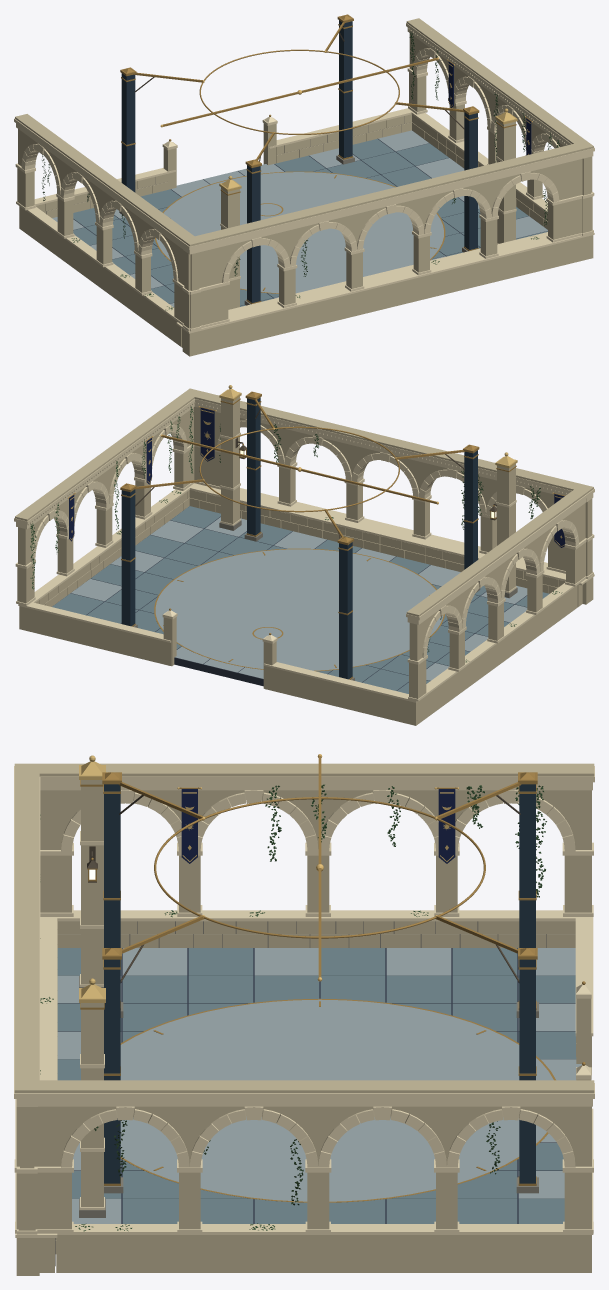
Rendered from shadow-sanctum-v01.glb.
3 views of the same model, one above another, from view 1: azimuth 30°, elevation 25°; view 2: azimuth 150°, elevation 25°; view 3: azimuth 270°, elevation 25° (orthographic). The views are drawn at different scales.
Visible parts, largest first — view 1: Shadow sandstone 4, Shadow sandstone light 6, Shadow floor sanctum 2, Shadow floor sanctum rim 3, Shadow iron dark 13, Shadow brass 0, Shadow ivy 14, Shadow grout 1, Shadow banner cloth 7; view 2: Shadow sandstone 4, Shadow floor sanctum 2, Shadow sandstone light 6, Shadow floor sanctum rim 3, Shadow iron dark 13, Shadow brass 0, Shadow grout 1, Shadow banner cloth 7, Shadow ivy 14; view 3: Shadow sandstone 4, Shadow floor sanctum 2, Shadow sandstone light 6, Shadow floor sanctum rim 3, Shadow iron dark 13, Shadow brass 0, Shadow ivy 14, Shadow banner cloth 7, Shadow sandstone shade 5, Shadow grout 1, Shadow gold 11.
Part boxes in pixels (x1,y1,x2,y2): Shadow sandstone 4: [15, 18, 593, 356]; Shadow sandstone light 6: [14, 23, 594, 333]; Shadow floor sanctum 2: [52, 130, 547, 307]; Shadow floor sanctum rim 3: [73, 139, 547, 306]; Shadow iron dark 13: [121, 20, 477, 302]; Shadow brass 0: [120, 14, 531, 304]; Shadow ivy 14: [42, 31, 559, 310]; Shadow grout 1: [73, 138, 547, 305]; Shadow banner cloth 7: [448, 61, 531, 155]; Shadow sandstone 4: [15, 388, 593, 725]; Shadow floor sanctum 2: [71, 517, 527, 680]; Shadow sandstone light 6: [14, 399, 594, 702]; Shadow floor sanctum rim 3: [52, 506, 549, 693]; Shadow iron dark 13: [121, 397, 477, 679]; Shadow brass 0: [69, 391, 565, 679]; Shadow grout 1: [70, 516, 526, 690]; Shadow banner cloth 7: [69, 407, 565, 547]; Shadow ivy 14: [30, 406, 562, 662]; Shadow sandstone 4: [14, 763, 594, 1275]; Shadow floor sanctum 2: [57, 948, 581, 1223]; Shadow sandstone light 6: [14, 766, 594, 1237]; Shadow floor sanctum rim 3: [57, 948, 576, 1223]; Shadow iron dark 13: [104, 784, 535, 1183]; Shadow brass 0: [80, 755, 585, 1202]; Shadow ivy 14: [40, 784, 546, 1231]; Shadow banner cloth 7: [181, 789, 455, 863]; Shadow sandstone shade 5: [55, 921, 575, 1266]; Shadow grout 1: [58, 948, 575, 1223]; Shadow gold 11: [79, 755, 105, 1002].
Bounding box in the file's own units: 23.52 × 8.44 × 17.62.
